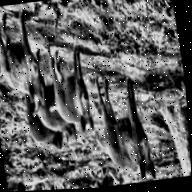boar: (94, 71, 164, 178), (45, 53, 109, 130), (0, 12, 47, 105), (36, 82, 80, 139)
